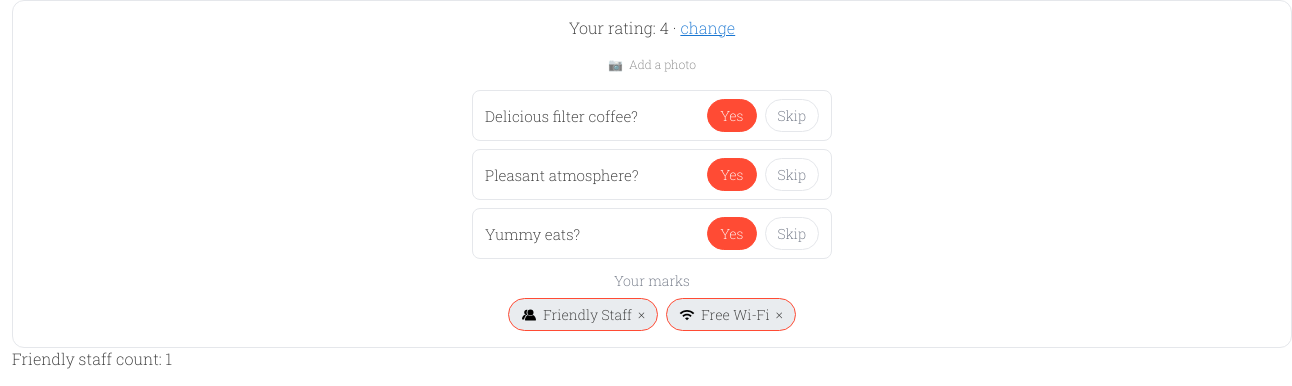
RateBlock › un-marks a Characteristic removed from "Your marks"
Expected: the text "Friendly staff count: 1" is shown, [12,348,172,369]
Click the button with aria-label "Remove Friendly Staff" at point(583, 315), box [508,298,658,331]
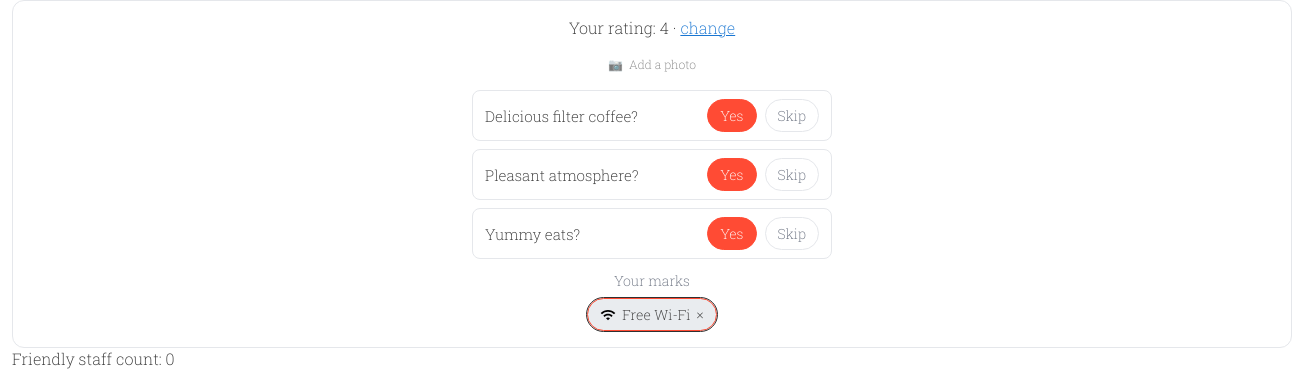
Result: the text "Friendly staff count: 0" is shown at [12,348,175,369]
